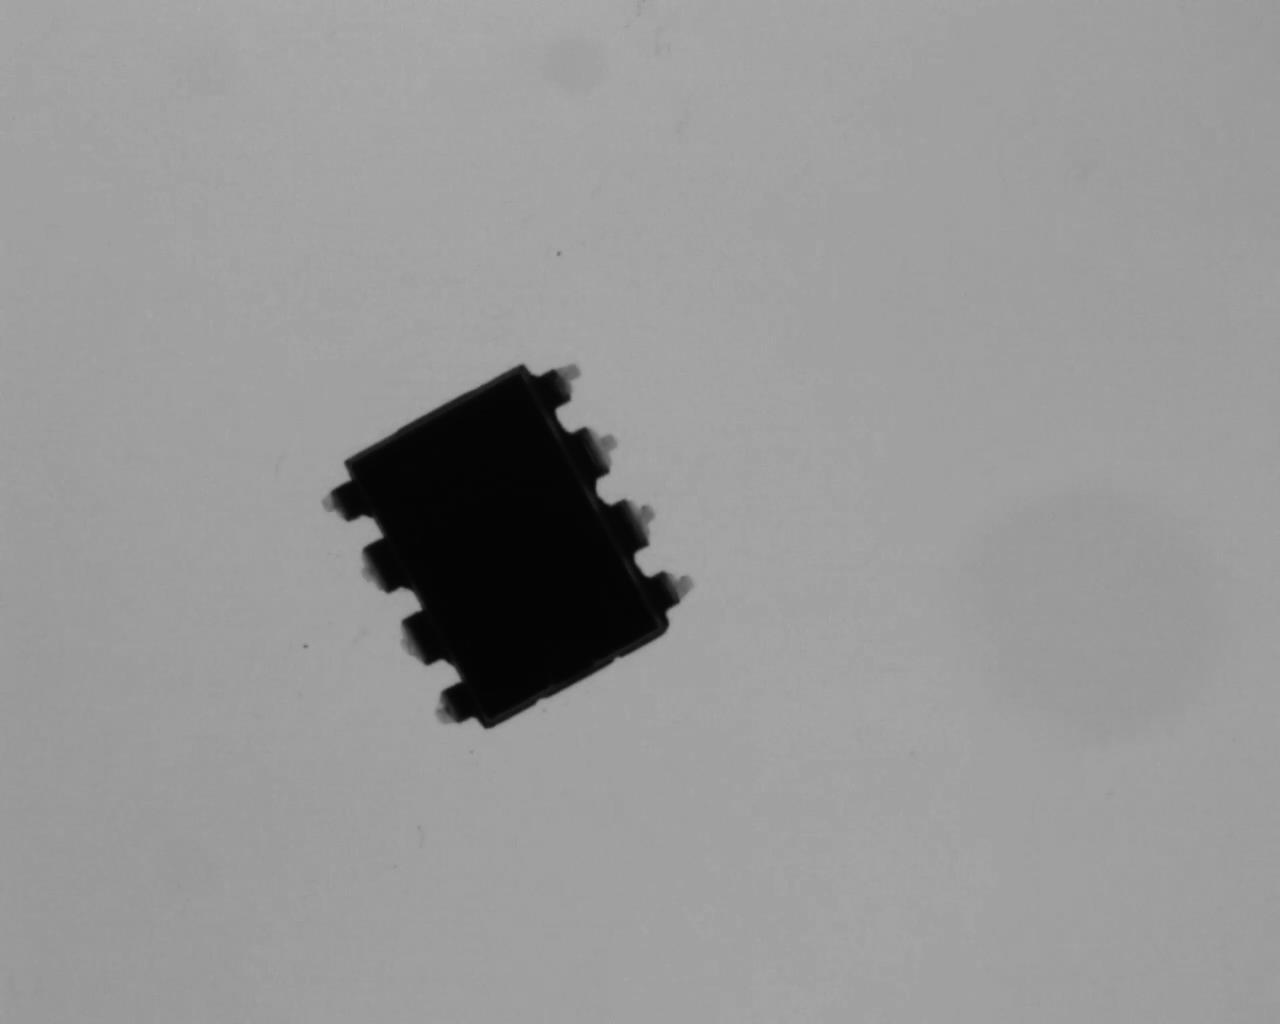Leg: (350, 538, 408, 599), (605, 490, 661, 550), (388, 610, 444, 670), (318, 470, 372, 530), (563, 423, 625, 475), (429, 677, 478, 735), (538, 357, 583, 412), (641, 571, 693, 614)
